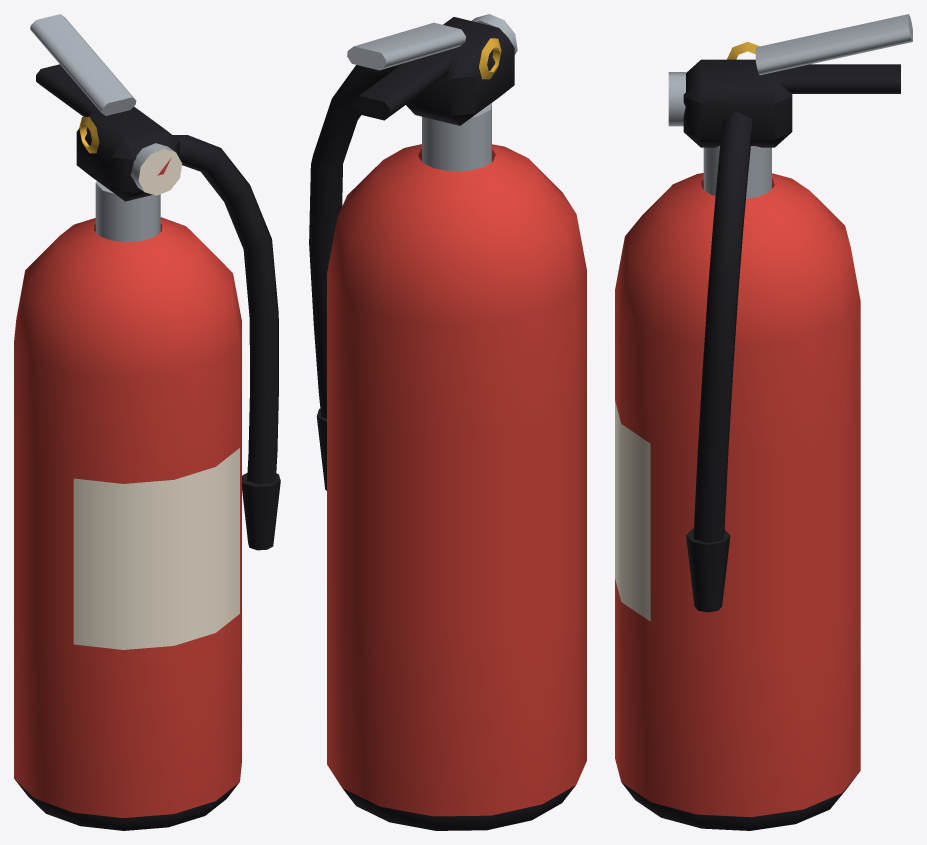
File: Extintor.fbx
3 renders of one model, left to right at view 1: azimuth 30°, elevation 25°; view 2: azimuth 150°, elevation 25°; view 3: azimuth 270°, elevation 25°, orthographic. The views are drawn at different scales.
Visible parts, largest first — view 1: Extintor; view 2: Extintor; view 3: Extintor.
Boxes of the visible parts, x1=… form: Extintor: x1=14, y1=14, x2=280, y2=830; Extintor: x1=309, y1=14, x2=586, y2=830; Extintor: x1=615, y1=14, x2=912, y2=830.
Size of the model in its own units: 0.6 by 1.7 by 0.6.
1 material, 1 textured.
